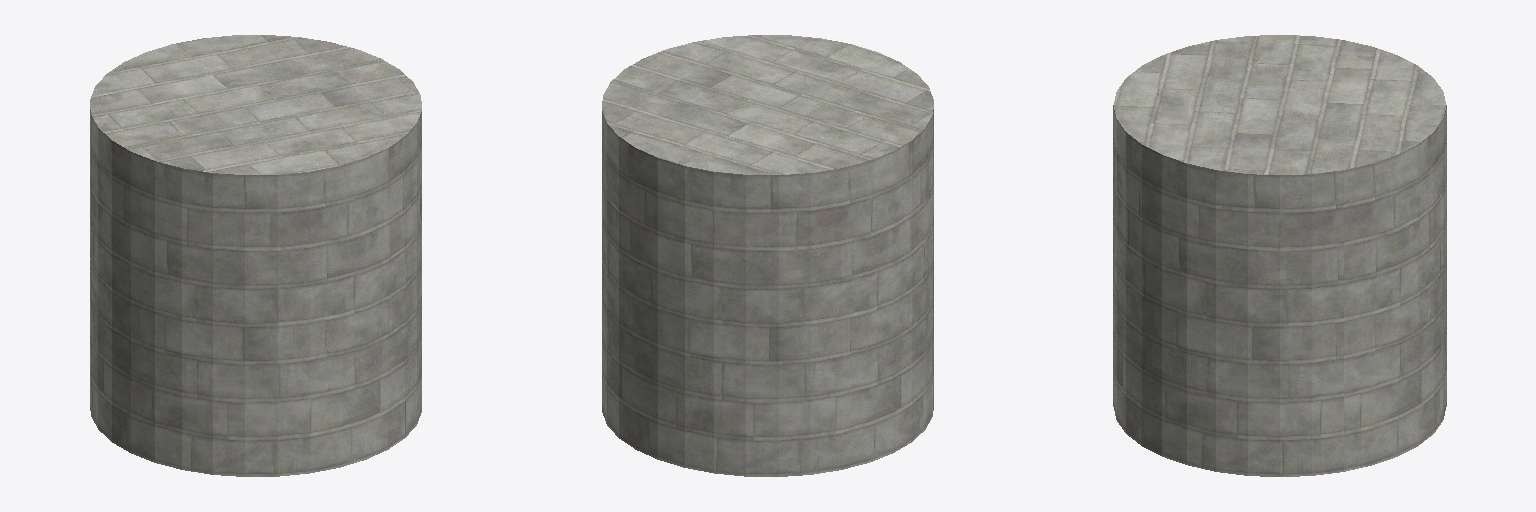
The picture shows the model from 3 angles: view 1: azimuth 30°, elevation 25°; view 2: azimuth 150°, elevation 25°; view 3: azimuth 270°, elevation 25°; orthographic projection.
Parts seen in each view (by area): view 1: Cylinder; view 2: Cylinder; view 3: Cylinder.
Boxes of the visible parts, x1=… form: Cylinder: x1=90, y1=35, x2=421, y2=476; Cylinder: x1=602, y1=35, x2=933, y2=476; Cylinder: x1=1113, y1=35, x2=1446, y2=476.
Bounding box in the file's own units: 2 × 2 × 2.
1 materials, 1 textured.